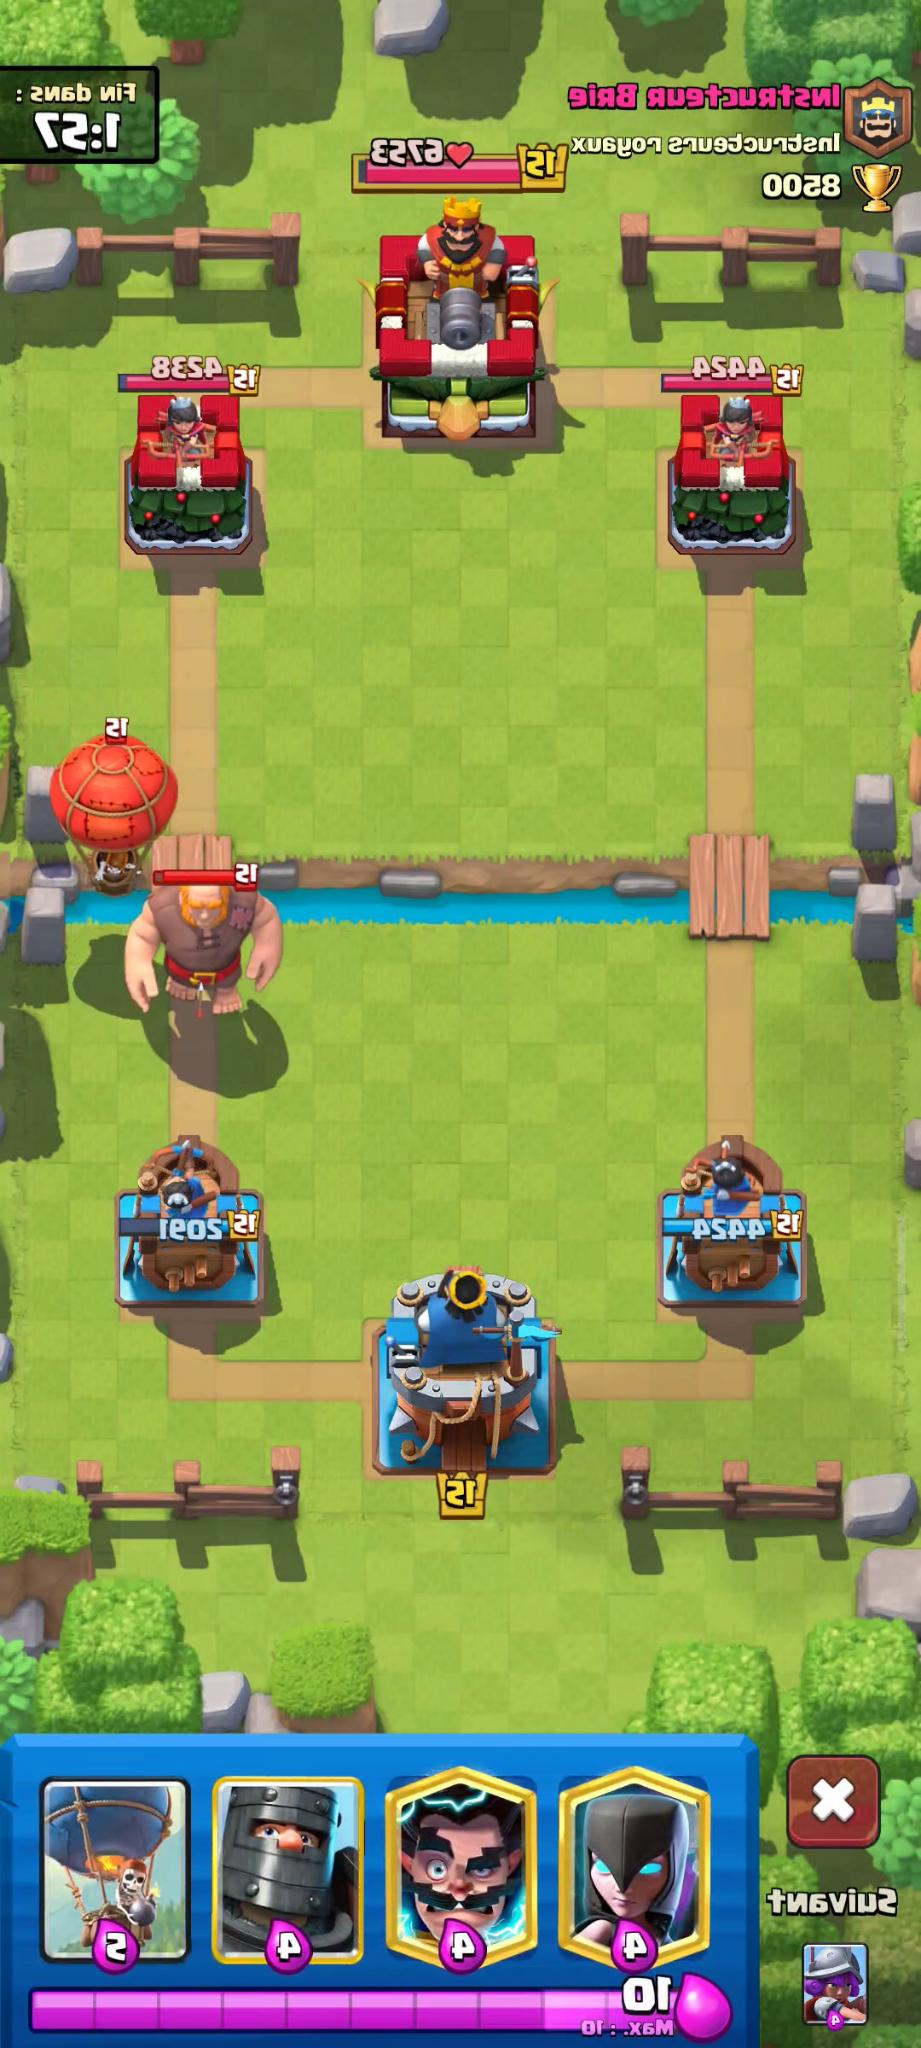geant: (116, 857, 286, 1036)
